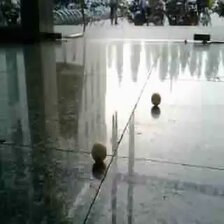w: (91, 143, 108, 163), (150, 92, 162, 107)
